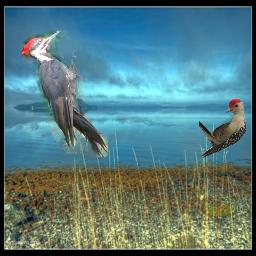Woodpecker: (21, 30, 108, 157), (199, 98, 246, 160)
